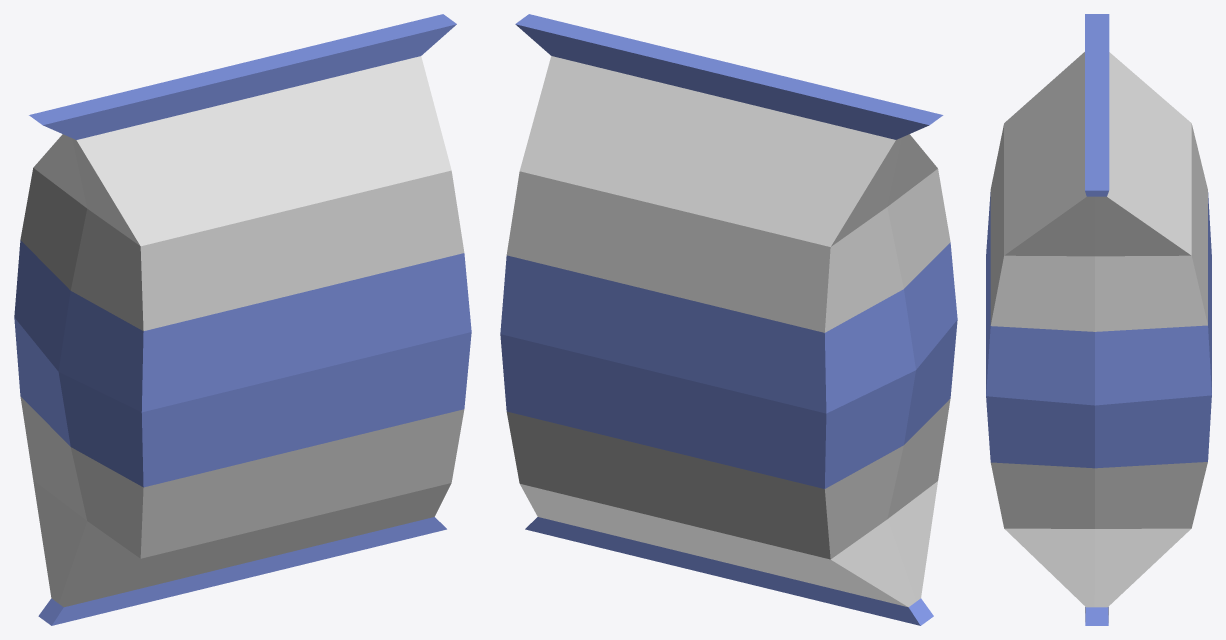
The model's file is bulto.fbx.
3 renders of one model, left to right at view 1: azimuth 30°, elevation 25°; view 2: azimuth 150°, elevation 25°; view 3: azimuth 270°, elevation 25°, orthographic. The views are drawn at different scales.
Parts seen in each view (by area): view 1: Cube; view 2: Cube; view 3: Cube.
Boxes of the visible parts, x1=… form: Cube: x1=14, y1=14, x2=471, y2=625; Cube: x1=500, y1=14, x2=957, y2=625; Cube: x1=986, y1=14, x2=1211, y2=625.
Size of the model in its own units: 267 by 309 by 144.
